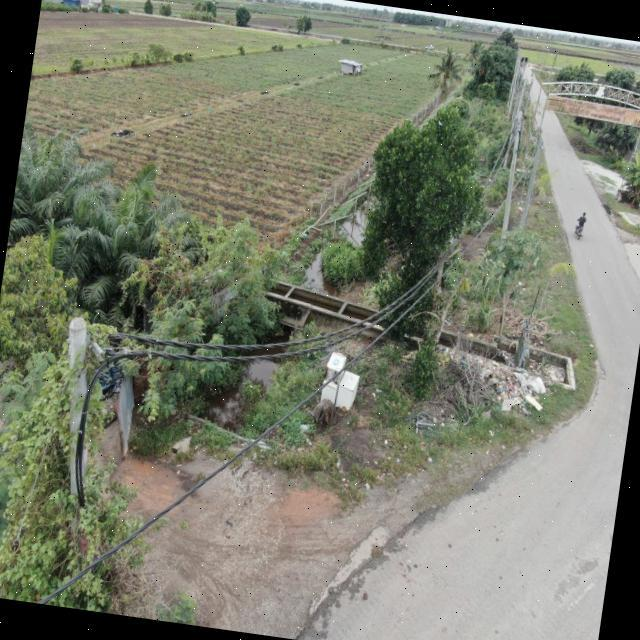critical vegetation: (0, 309, 169, 607)
